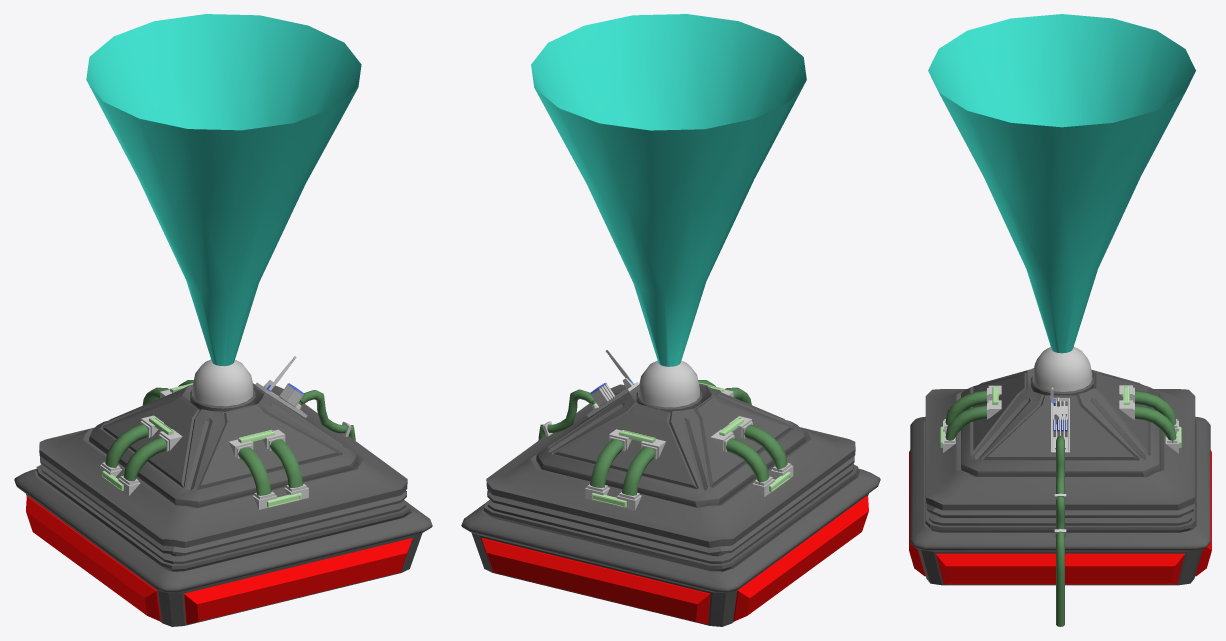
Rendered from finalexport.fbx.
3 views of the same model, side by side, from view 1: azimuth 30°, elevation 25°; view 2: azimuth 150°, elevation 25°; view 3: azimuth 270°, elevation 25° (orthographic). The views are drawn at different scales.
Visible parts, largest first — view 1: Box001_Box001, Cylinder008, lens, Loft002, Loft004, Box020, Box006, Loft005_Loft005; view 2: Box001_Box001, Cylinder008, lens, Loft002, Loft003, Box017, Box006, Loft005_Loft005; view 3: Box001_Box001, Cylinder008, lens, Loft005_Loft005, Loft004, Loft003, Box008, Box017, Box020.
Part boxes in pixels (x1,y1,x2,y2): Box001_Box001: [14, 383, 432, 626]; Cylinder008: [86, 14, 361, 366]; lens: [192, 359, 253, 406]; Loft002: [105, 424, 166, 481]; Loft004: [238, 439, 303, 497]; Box020: [229, 429, 308, 509]; Box006: [100, 415, 182, 496]; Loft005_Loft005: [298, 390, 355, 440]; Box001_Box001: [461, 383, 880, 626]; Cylinder008: [531, 14, 806, 366]; lens: [638, 360, 699, 407]; Loft002: [726, 424, 787, 484]; Loft003: [590, 439, 655, 495]; Box017: [585, 429, 665, 510]; Box006: [710, 416, 793, 496]; Loft005_Loft005: [538, 389, 595, 440]; Box001_Box001: [909, 368, 1211, 585]; Cylinder008: [928, 14, 1195, 353]; lens: [1033, 347, 1092, 391]; Loft005_Loft005: [1056, 436, 1064, 626]; Loft004: [945, 390, 986, 440]; Loft003: [1135, 390, 1176, 442]; Box008: [1051, 398, 1069, 453]; Box017: [1119, 385, 1178, 453]; Box020: [943, 385, 1001, 452].
Size of the model in its own units: 82.05 by 138 by 77.75.
